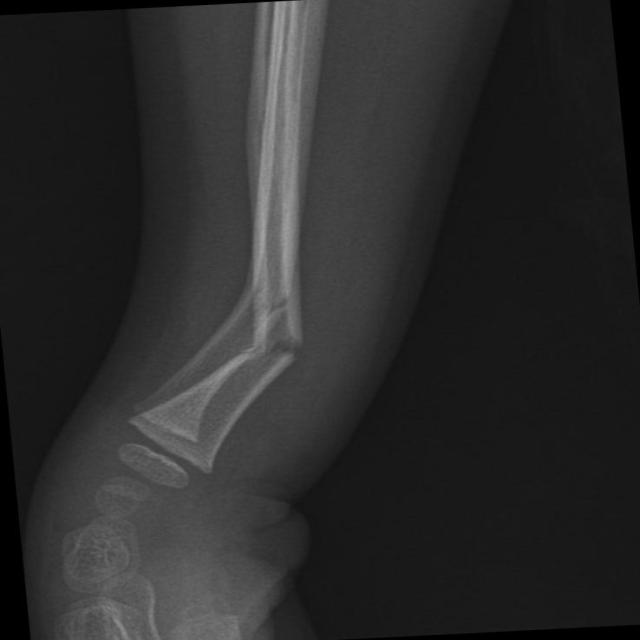Transverse Displaced: (230, 305, 348, 380)
